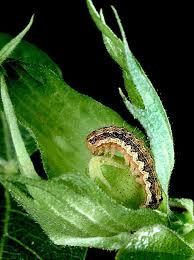Insects: (84, 120, 166, 215)
